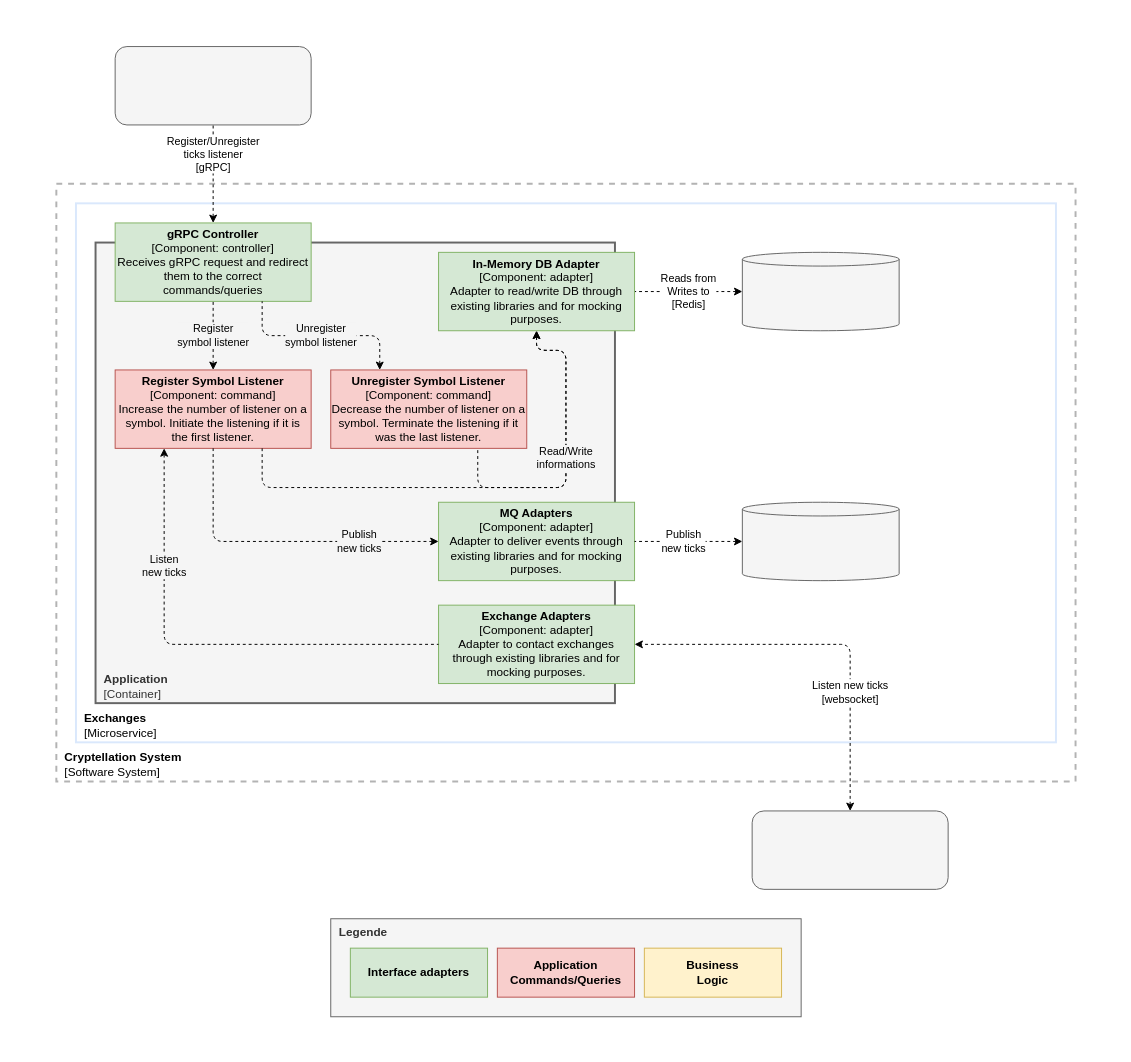
Some shapes in this 1131 by 1062 pixel diagram are drawn without their labels. The centre of each missing label's shape, as x and y in pixels:
Exchanges [Internet Service] API that exchanges provides to get informations.: point (849, 849)
NATS [Message Broker Service] Publish/Receive messages asynchronously: point (820, 541)
Redis [In-Memory Database] Store ticks subscriptions informations: point (820, 291)
User [Application] Application that a user will run to execute its strategies.: point (212, 85)
